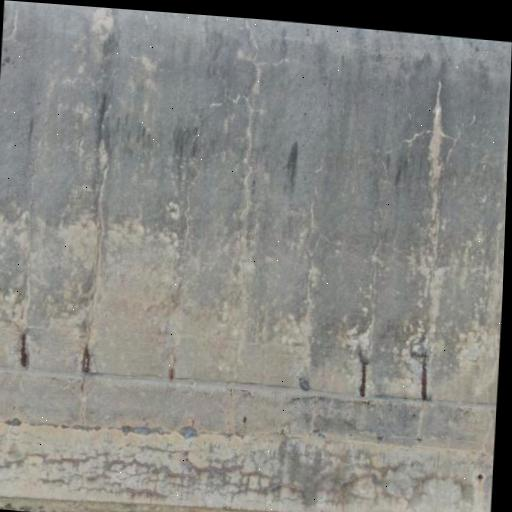exposed_rebar: (359, 357, 368, 398), (20, 331, 29, 369), (82, 344, 92, 374), (421, 361, 427, 400), (299, 375, 310, 391), (169, 366, 175, 380)
